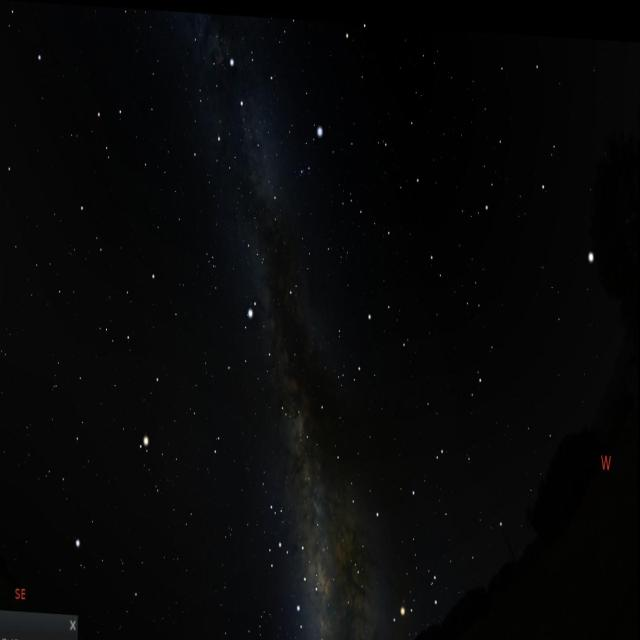aquila: (218, 288, 296, 424)
cygnus: (210, 39, 288, 234)
lyra: (295, 111, 330, 184)
sagittarius: (263, 511, 316, 635)
